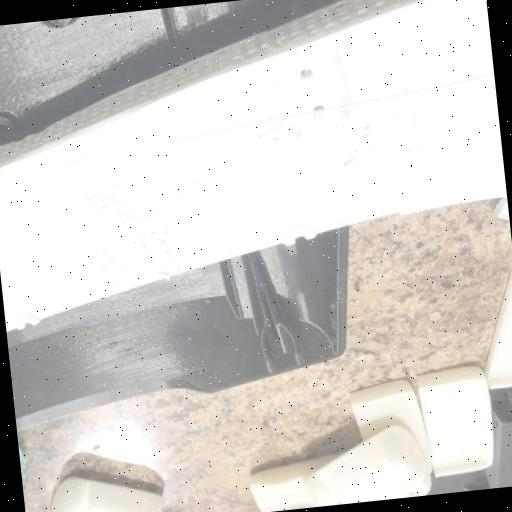blobs: (340, 158, 360, 170), (360, 132, 374, 146), (154, 270, 170, 280), (106, 254, 121, 264), (414, 145, 426, 157), (294, 132, 306, 144), (284, 126, 296, 138), (160, 248, 174, 258), (254, 133, 266, 144), (265, 113, 277, 124), (108, 279, 122, 288), (270, 136, 282, 146), (156, 236, 168, 246), (352, 148, 363, 158), (408, 112, 418, 122), (410, 120, 420, 130), (406, 146, 416, 156), (266, 126, 278, 134), (146, 255, 158, 263), (363, 124, 373, 133), (165, 255, 175, 264), (148, 230, 158, 239), (161, 228, 170, 238), (136, 232, 147, 240), (100, 266, 108, 276), (89, 253, 99, 261), (172, 268, 182, 275), (138, 243, 148, 250), (146, 248, 156, 254), (390, 116, 398, 123), (118, 268, 126, 275), (340, 126, 348, 132), (100, 248, 107, 254), (100, 286, 107, 292)
